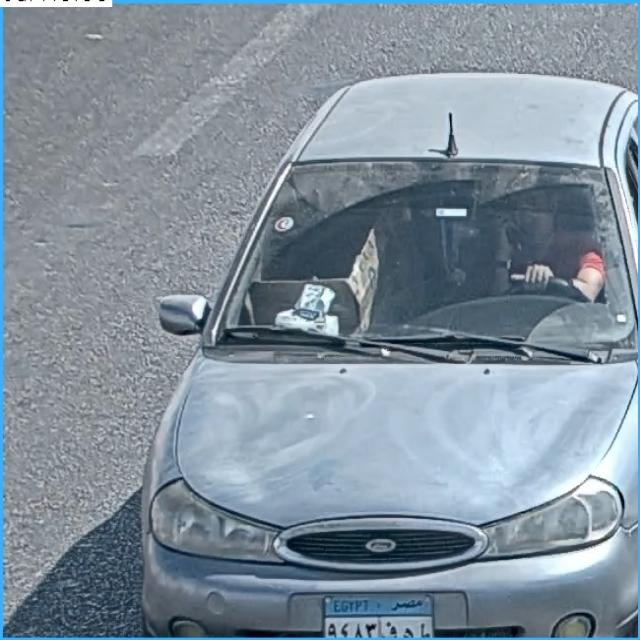windshield: (218, 157, 637, 350)
